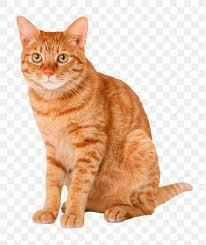non-mango: (15, 14, 193, 228)
